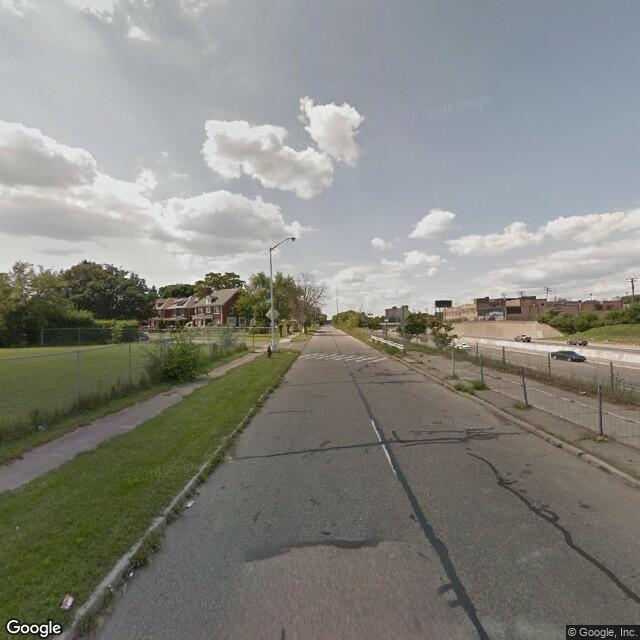litter: (54, 592, 79, 614), (176, 495, 200, 510), (122, 567, 139, 581)
